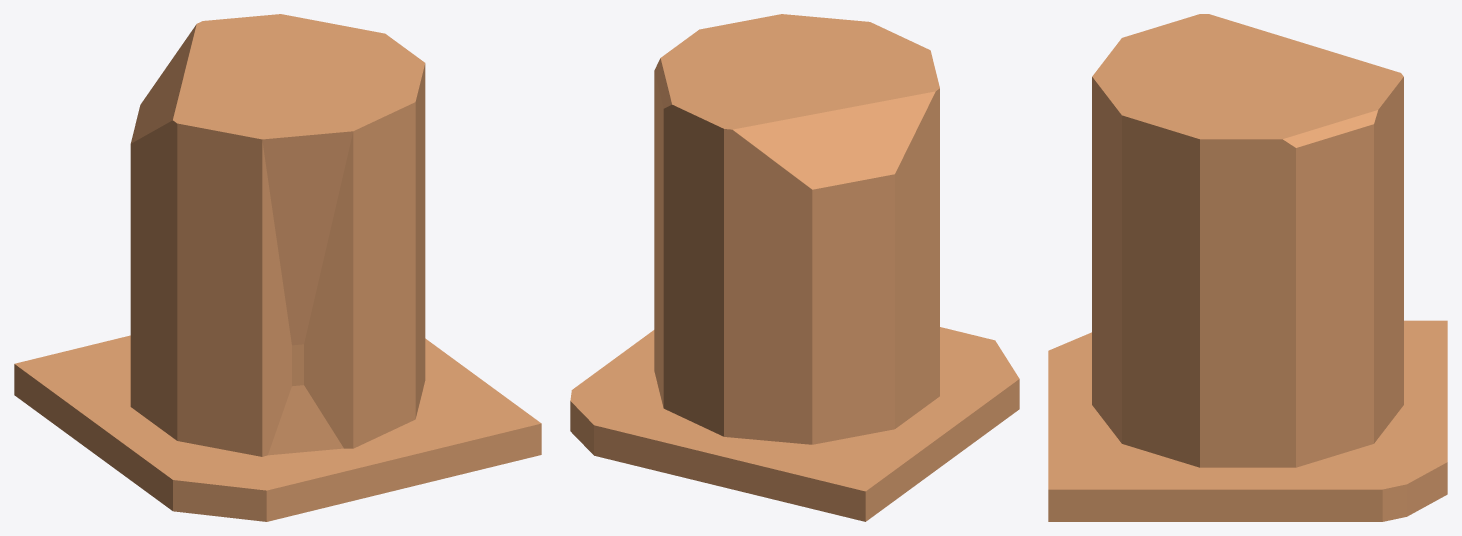
Rendered from Wall.1.0.fbx.
3 views of the same model, side by side, from view 1: azimuth 30°, elevation 25°; view 2: azimuth 150°, elevation 25°; view 3: azimuth 270°, elevation 25° (orthographic). The views are drawn at different scales.
Parts seen in each view (by area): view 1: Cylinder, Cube; view 2: Cylinder, Cube; view 3: Cylinder, Cube.
Boxes of the visible parts, box(x1,y1,x2,y2) form: Cylinder: box(130, 14, 425, 456); Cube: box(14, 335, 541, 521); Cylinder: box(654, 14, 939, 444); Cube: box(570, 327, 1019, 521); Cylinder: box(1092, 14, 1403, 467); Cube: box(1048, 320, 1447, 521).
Bounding box in the file's own units: 200 × 199 × 200.
